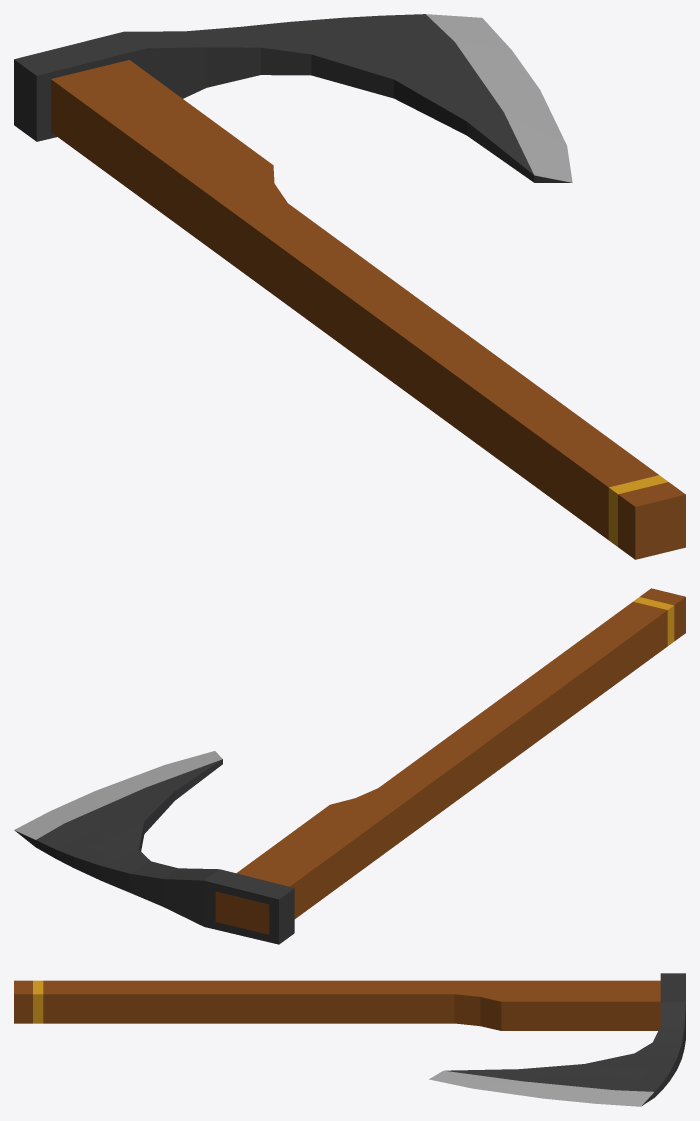
The model's file is Masakari - Textured Low Poly Asian Weapon Pack by Kickin It Studios.fbx.
3 renders of one model, top to bottom at view 1: azimuth 30°, elevation 25°; view 2: azimuth 150°, elevation 25°; view 3: azimuth 270°, elevation 25°, orthographic. The views are drawn at different scales.
Parts seen in each view (by area): view 1: Masakari; view 2: Masakari; view 3: Masakari.
Part boxes in pixels (x1,y1,x2,y2): Masakari: (14, 14, 685, 559); Masakari: (14, 588, 685, 944); Masakari: (14, 973, 685, 1106).
Size of the model in its own units: 202 by 30.42 by 496.
